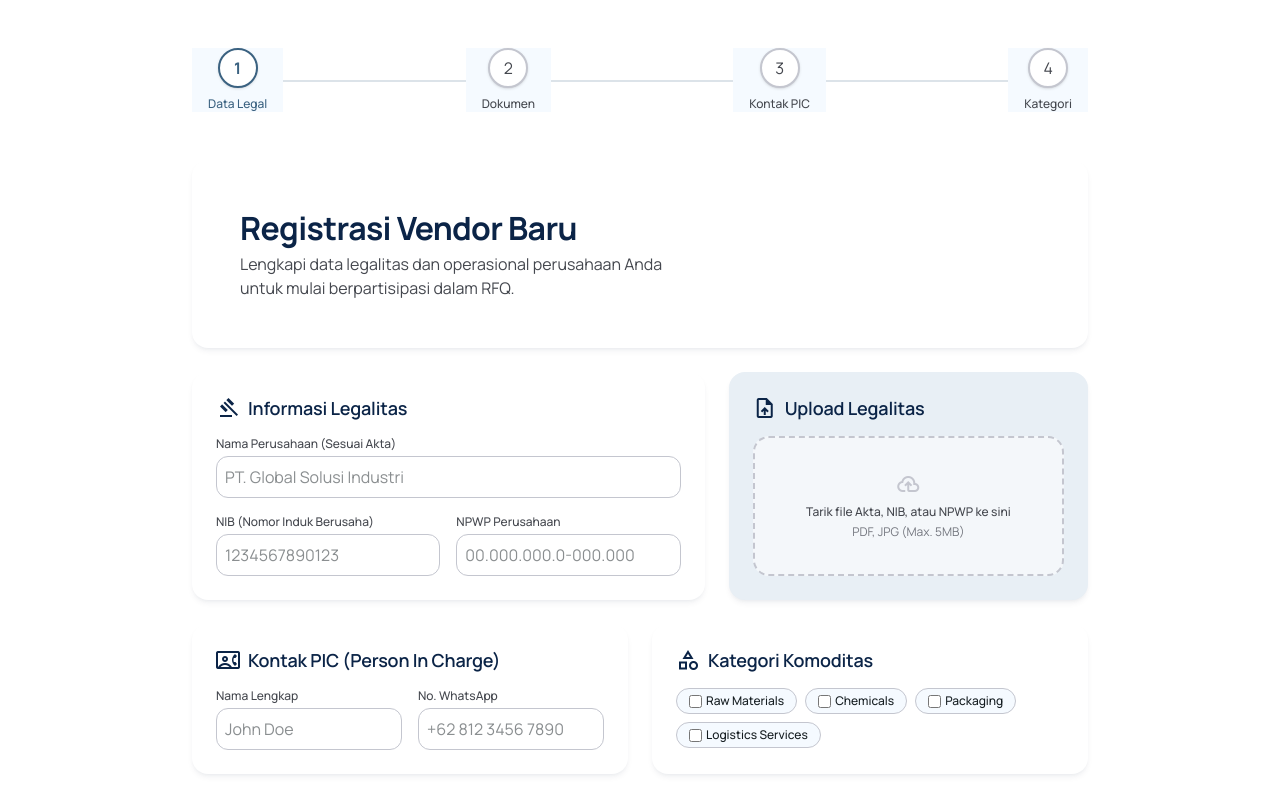
Test: VendorRegistrationPage › shows the pending-verification status view after submitting a valid form
Type "PT. Contoh Sejahtera" into the field with placeholder "PT. Global Solusi Industri". click: {"x": 448, "y": 477}
box: [216,456,681,498]
Type "9998887776665" into the field with placeholder "1234567890123". click: {"x": 328, "y": 555}
box: [216,534,440,576]
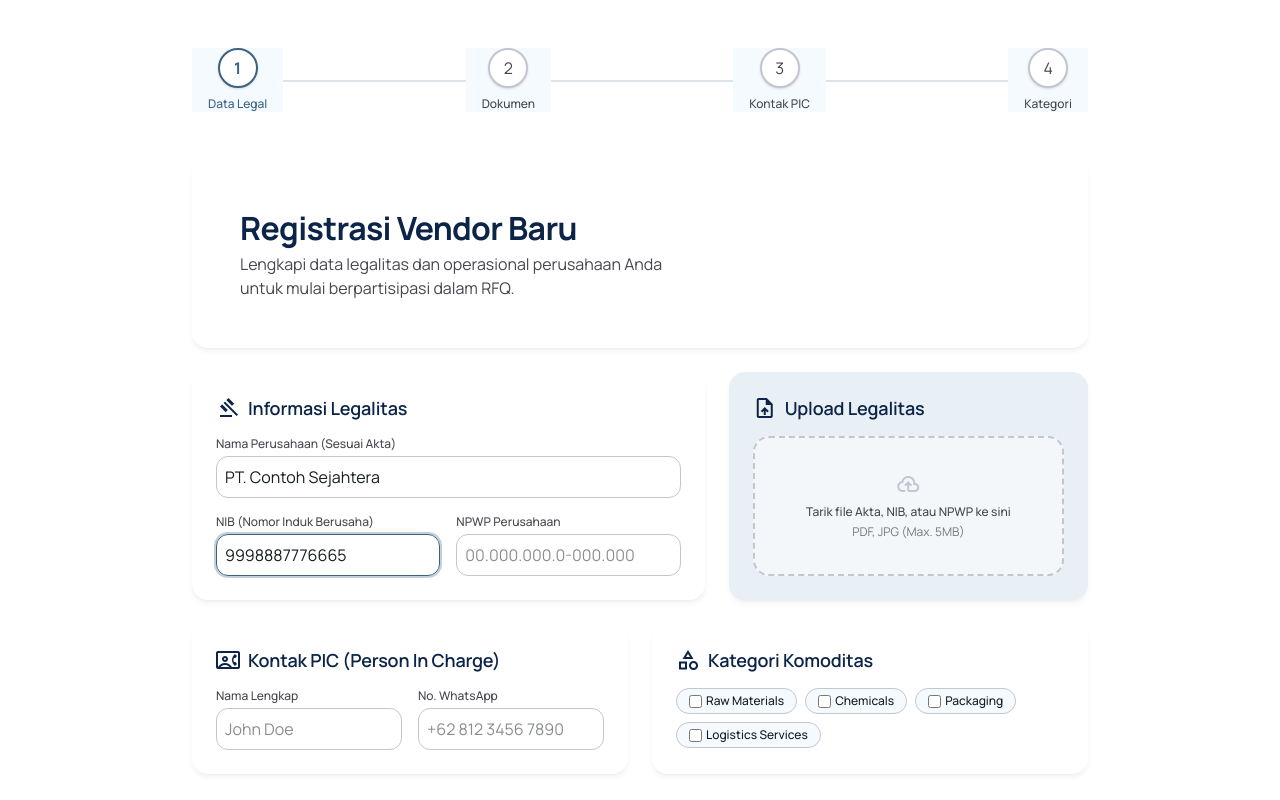
Type "11.222.333.4-555.000" into the field with placeholder "00.000.000.0-000.000". click: {"x": 568, "y": 555}
box: [456,534,681,576]
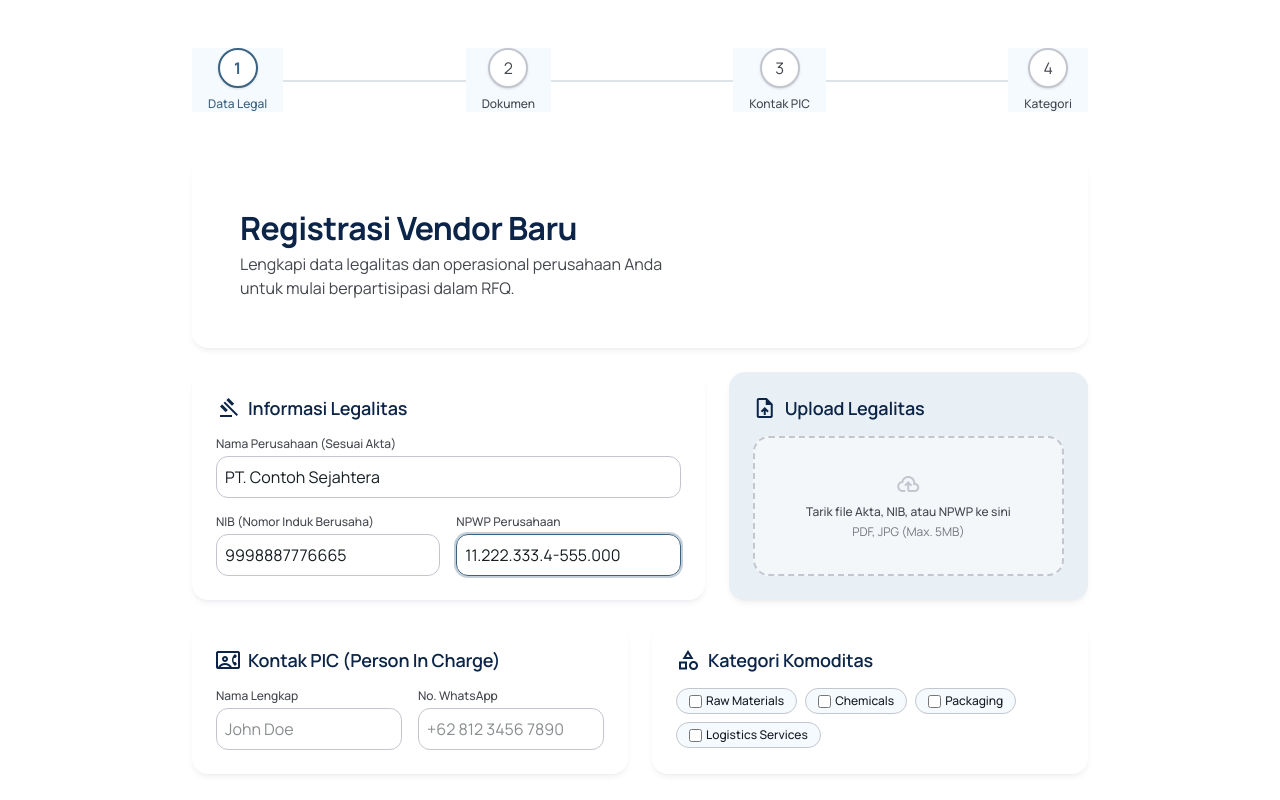
Type "Jane Doe" into the field with placeholder "John Doe". click: {"x": 309, "y": 729}
box: [216,708,402,750]
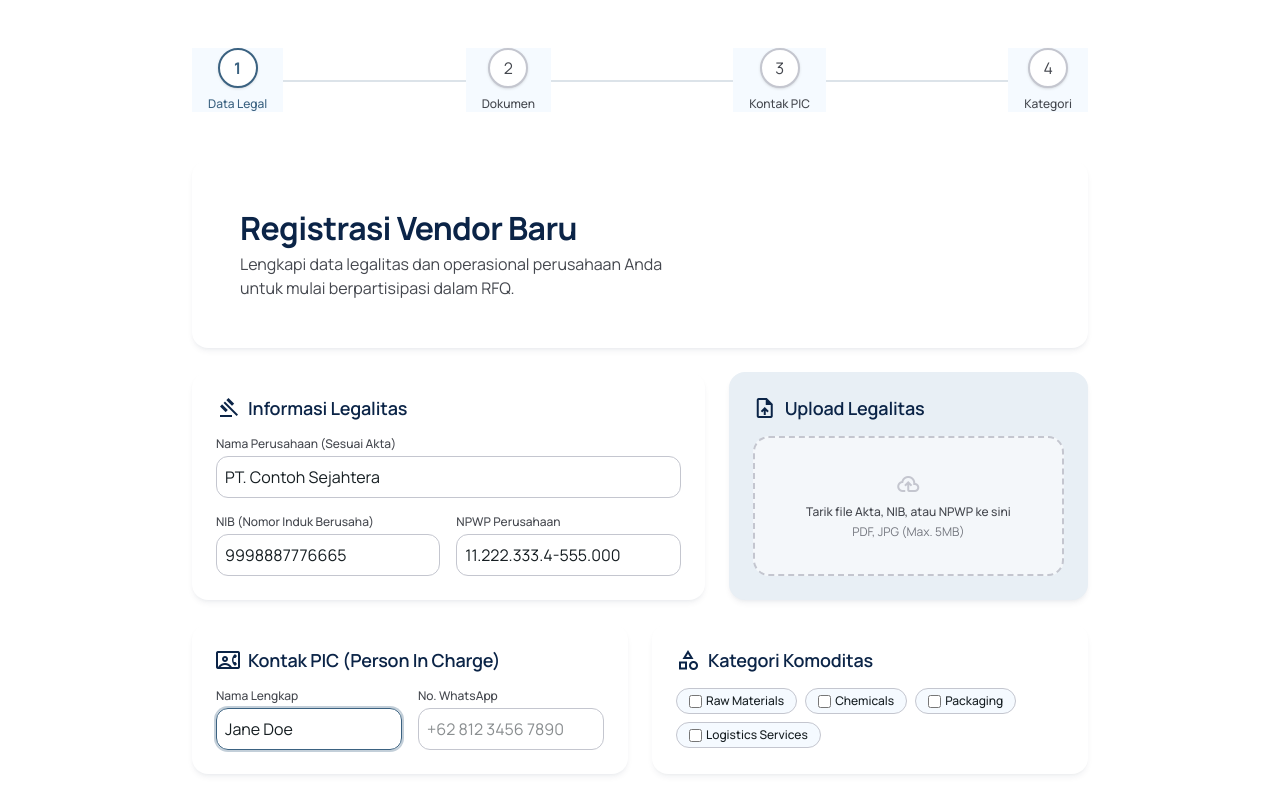
Type "+62 811 2233 4455" into the field with placeholder "+62 812 3456 7890". click: {"x": 511, "y": 729}
box: [418,708,604,750]
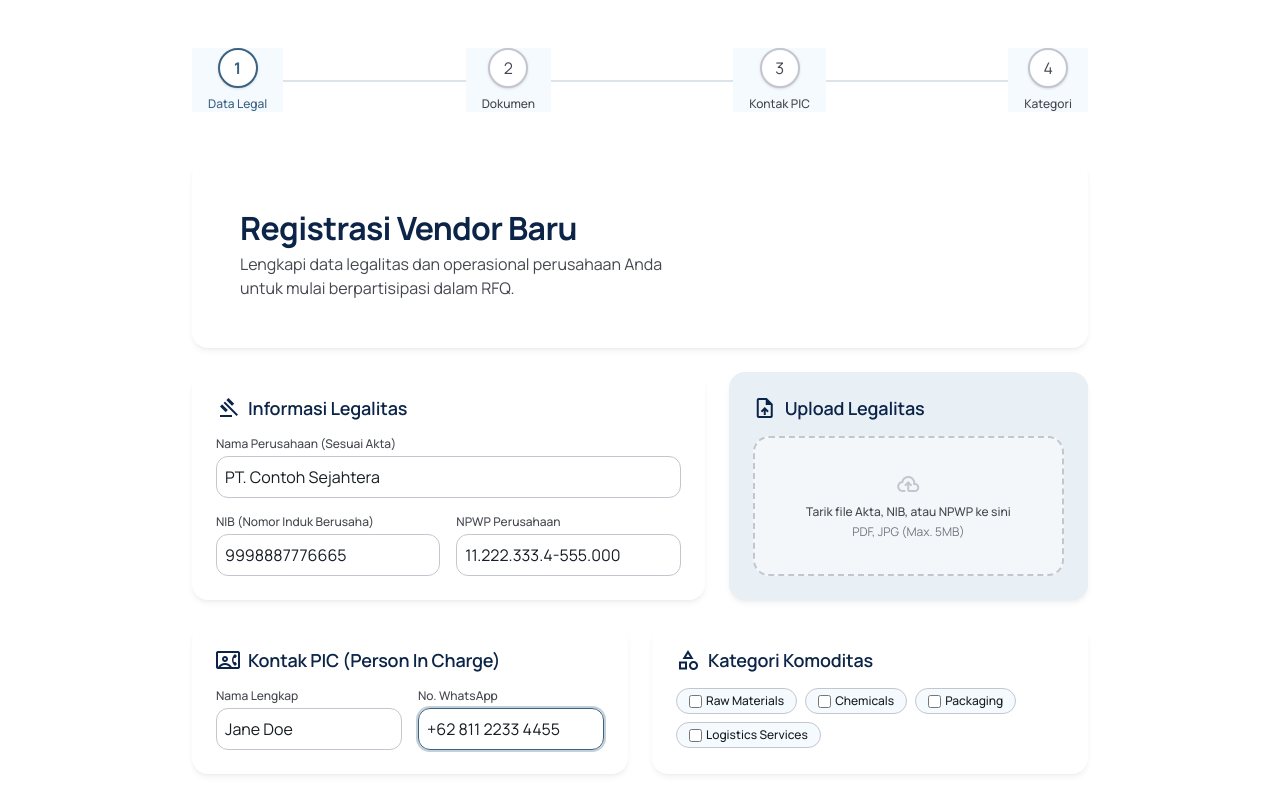
Click the checkbox labelled "Raw Materials". click: {"x": 696, "y": 701}
box: [689,694,702,708]
(page scrolled)
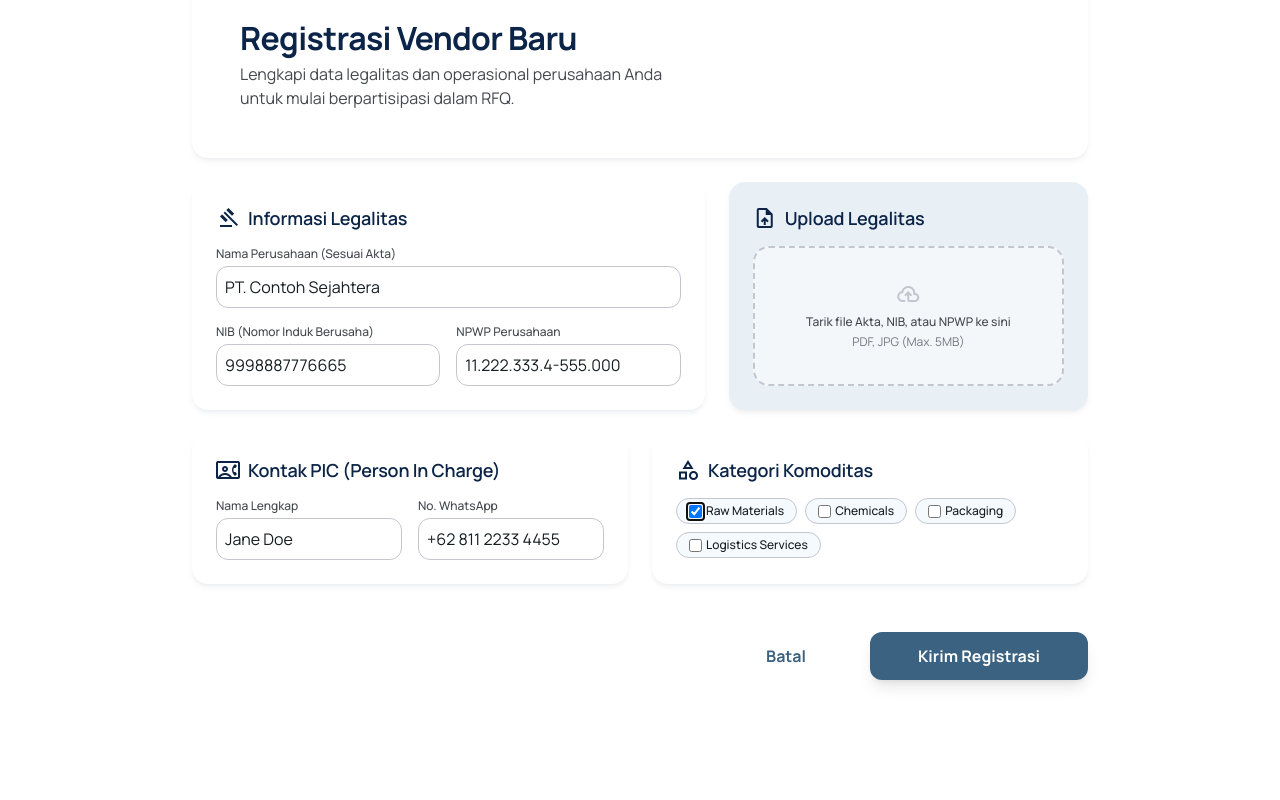
Click the button "Kirim Registrasi". click: {"x": 979, "y": 656}
box: [870,632,1088,680]
(page scrolled)
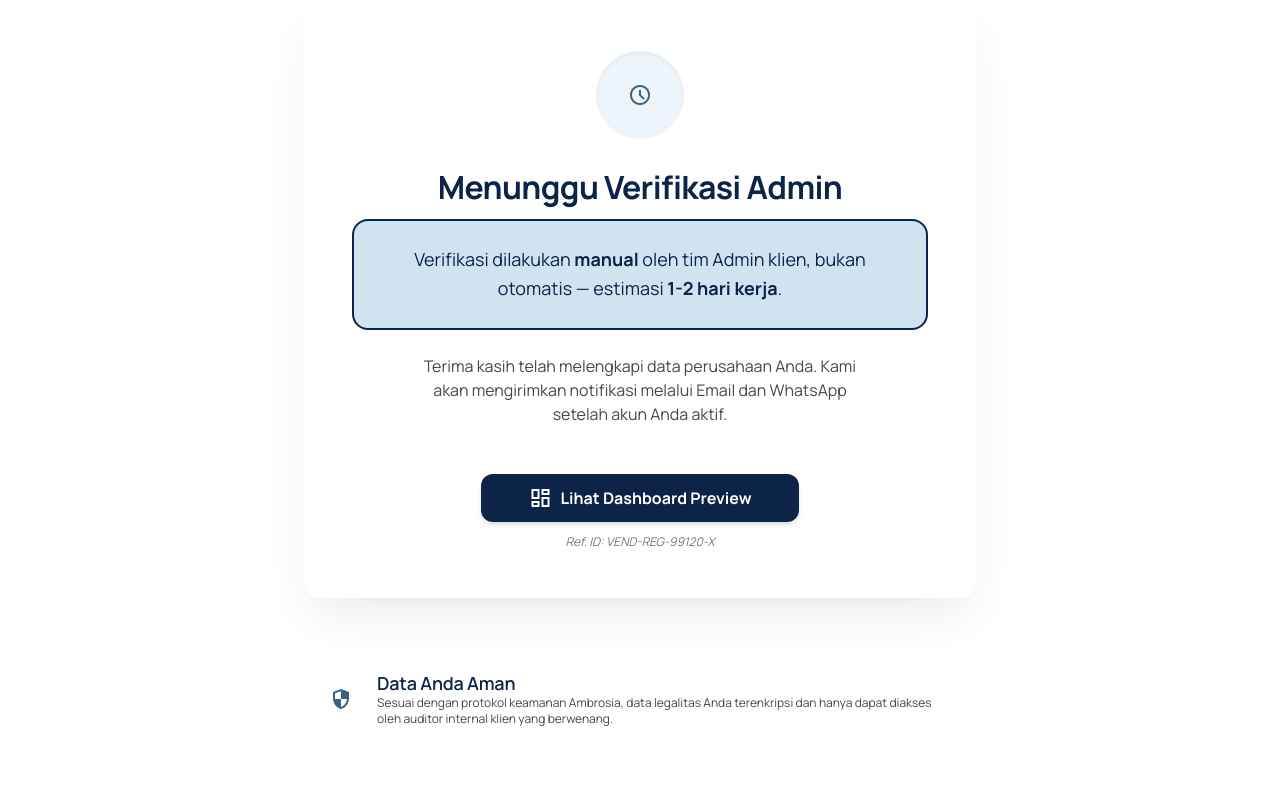
Check: the heading "Menunggu Verifikasi Admin" is shown, box [438,165,842,209]
Check: the text "Ref. ID: VEND-REG-99120-X" is shown, box [566,534,714,550]
